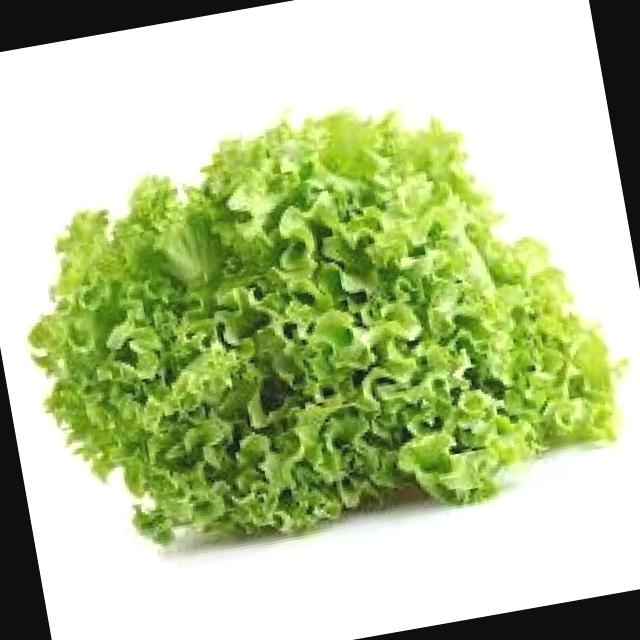lista_para_cosechar: (30, 110, 615, 542)
